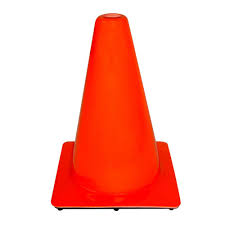cones: (50, 17, 182, 211)
